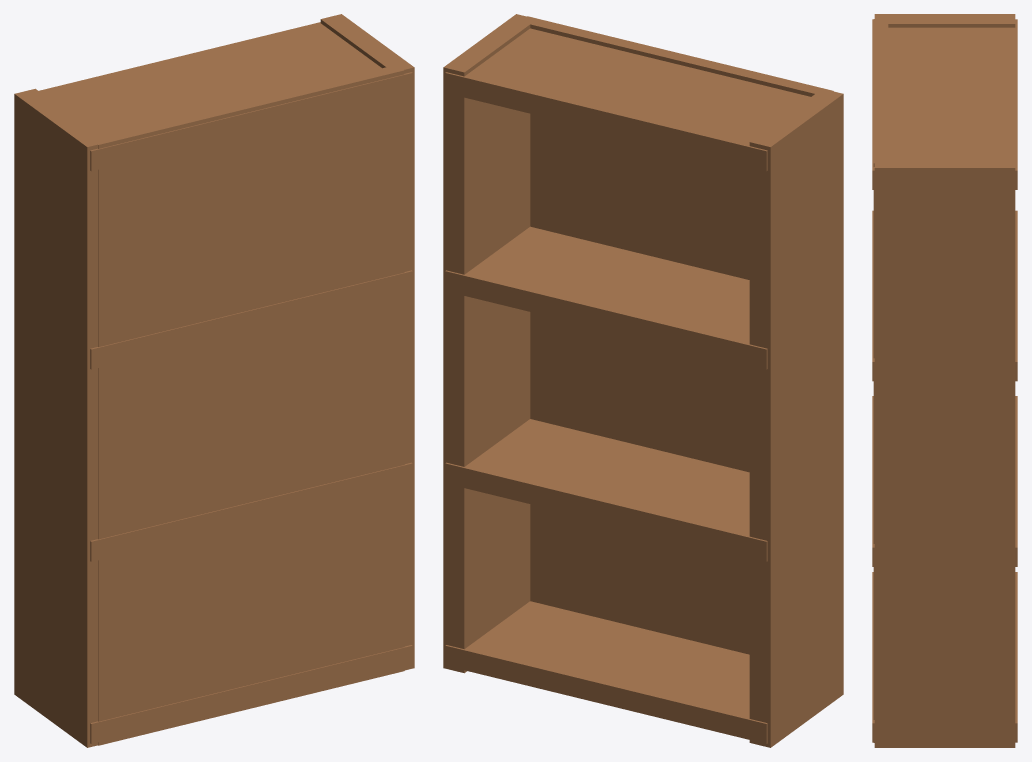
Rendered from bookcase.glb.
3 renders of one model, left to right at view 1: azimuth 30°, elevation 25°; view 2: azimuth 150°, elevation 25°; view 3: azimuth 270°, elevation 25°, orthographic. The views are drawn at different scales.
Visible parts, largest first — view 1: bookcase; view 2: bookcase; view 3: bookcase.
Boxes of the visible parts, x1,y1,x2,y2 form: bookcase: (14,14,414,747); bookcase: (443,14,843,747); bookcase: (872,14,1017,747).
Bounding box in the file's own units: 0.855 × 1.5 × 0.34.
